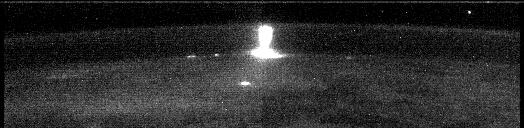positive: (255, 24, 274, 48)
